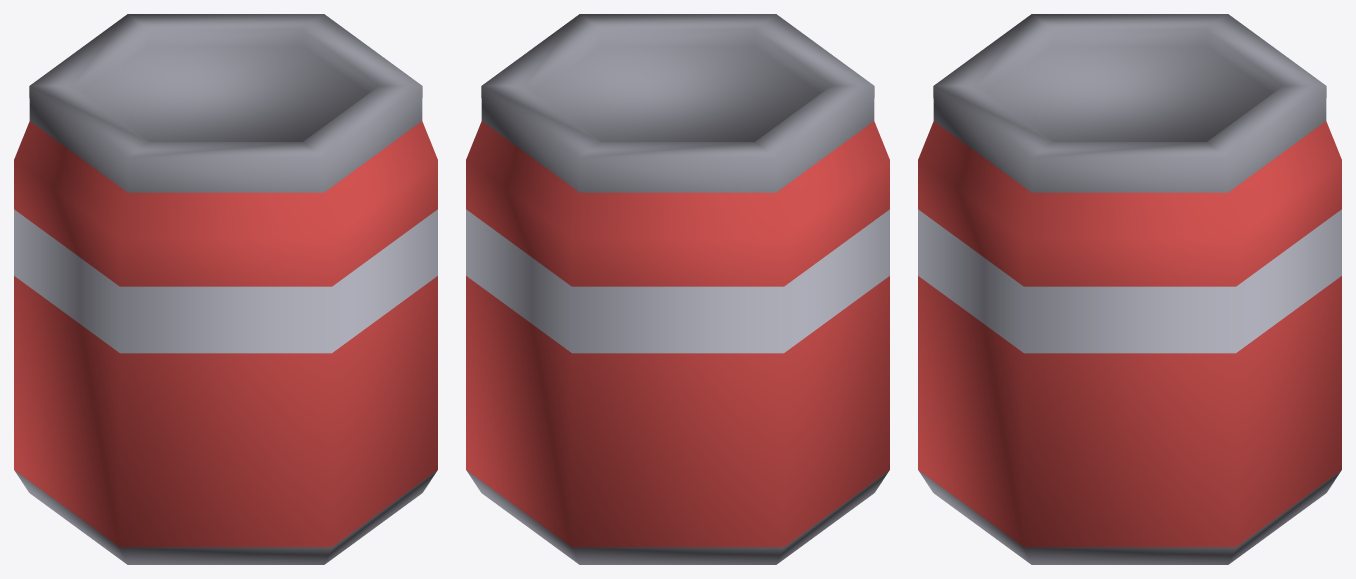
Rendered from Trash-Can1.fbx.
The picture shows the model from 3 angles, left to right: view 1: azimuth 30°, elevation 25°; view 2: azimuth 150°, elevation 25°; view 3: azimuth 270°, elevation 25°; orthographic projection.
Parts seen in each view (by area): view 1: Cylinder; view 2: Cylinder; view 3: Cylinder.
Boxes of the visible parts, x1,y1,x2,y2 form: Cylinder: [14, 14, 437, 564]; Cylinder: [466, 14, 889, 564]; Cylinder: [918, 14, 1341, 564].
Bounding box in the file's own units: 0.1491 × 0.1823 × 0.1721.
